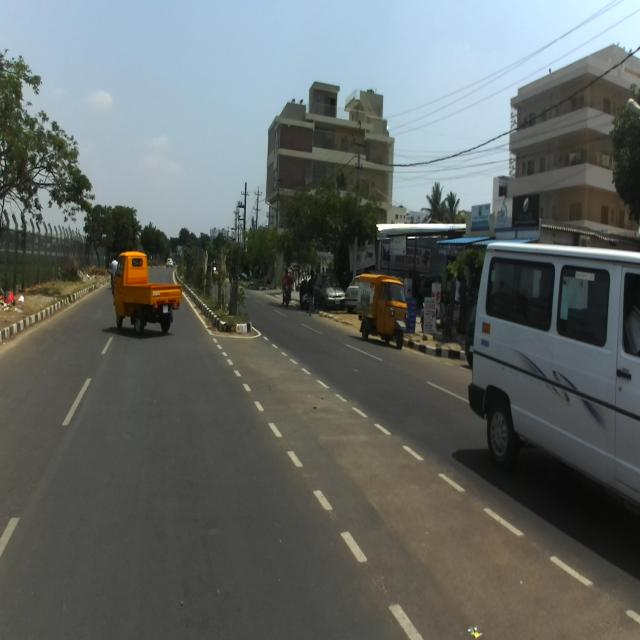auto ahead at: (105, 242, 182, 340)
car ahead at: (476, 238, 640, 512)
